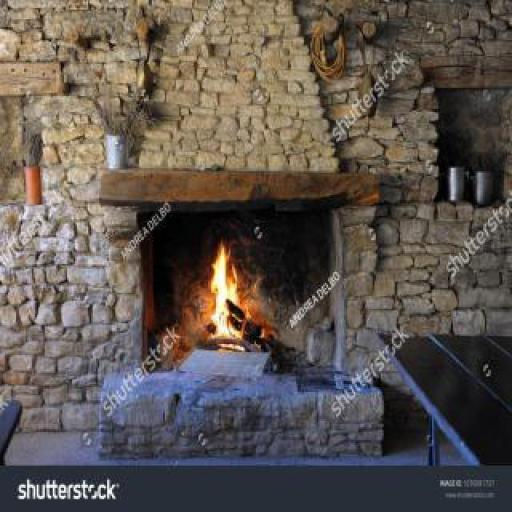smoke: (206, 237, 256, 352)
